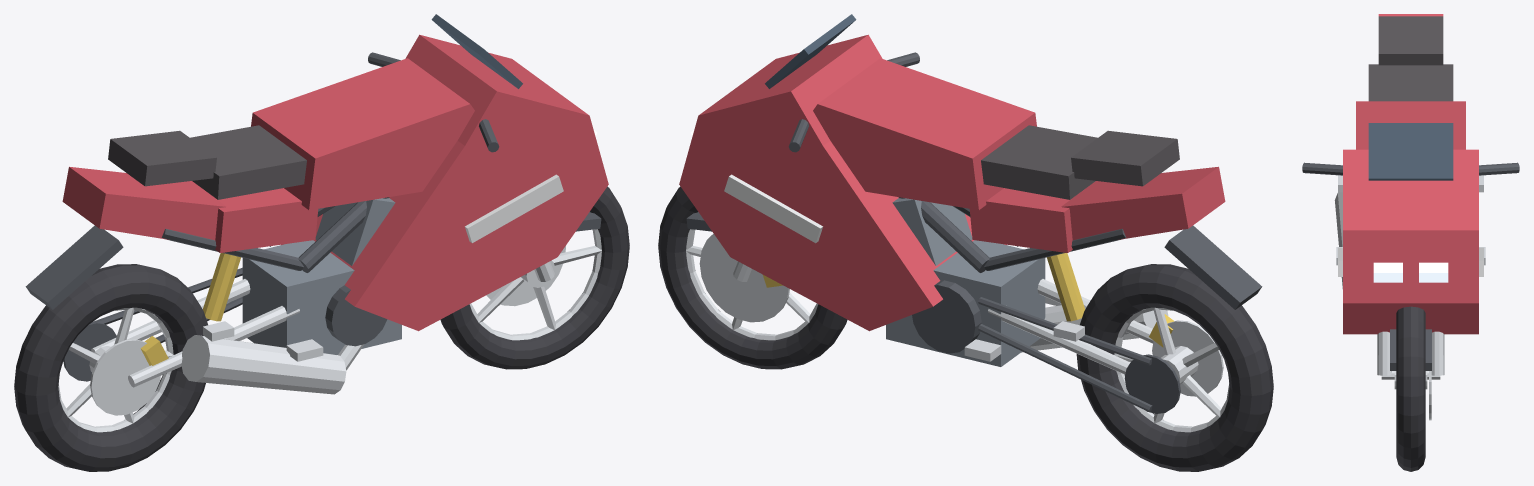
The model's file is honda-cbr-150r-2021-2026.glb.
The picture shows the model from 3 angles, left to right: view 1: azimuth 30°, elevation 25°; view 2: azimuth 150°, elevation 25°; view 3: azimuth 270°, elevation 25°; orthographic projection. The views are drawn at different scales.
Visible parts, largest first — view 1: Bodi_Depan, Bodi_Utama, Roda_Ban, Jok_Motor, Mesin_Blok, Knalpot, Velg_Roda, Piringan_Rem, Spakbor, Rangka, Swing_Arm, Cover_Mesin (+6 smaller); view 2: Bodi_Depan, Bodi_Utama, Roda_Ban, Jok_Motor, Mesin_Blok, Piringan_Rem, Velg_Roda, Rantai, Spakbor, Cover_Mesin, Rangka, Swing_Arm (+6 smaller); view 3: Bodi_Depan, Jok_Motor, Windshield_Visor, Roda_Ban, Bodi_Utama, Suspensi_Depan, Lampu_Depan, Master_Rem_Stang, Spakbor, Knalpot, Aksen_Bodi, Footstep.
Part boxes in pixels (x1=…): Bodi_Depan: x1=281, y1=34, x2=608, y2=331; Bodi_Utama: x1=62, y1=58, x2=474, y2=252; Roda_Ban: x1=14, y1=186, x2=629, y2=471; Jok_Motor: x1=108, y1=125, x2=306, y2=199; Mesin_Blok: x1=242, y1=198, x2=401, y2=354; Knalpot: x1=181, y1=335, x2=364, y2=394; Velg_Roda: x1=58, y1=229, x2=601, y2=432; Piringan_Rem: x1=90, y1=246, x2=565, y2=415; Spakbor: x1=25, y1=212, x2=601, y2=309; Rangka: x1=161, y1=197, x2=389, y2=272; Swing_Arm: x1=91, y1=279, x2=299, y2=387; Cover_Mesin: x1=325, y1=285, x2=387, y2=346; Bodi_Depan: x1=679, y1=34, x2=1006, y2=331; Bodi_Utama: x1=813, y1=58, x2=1225, y2=252; Roda_Ban: x1=658, y1=186, x2=1273, y2=471; Jok_Motor: x1=981, y1=125, x2=1179, y2=199; Mesin_Blok: x1=886, y1=198, x2=1045, y2=366; Piringan_Rem: x1=699, y1=233, x2=1223, y2=396; Velg_Roda: x1=686, y1=229, x2=1229, y2=432; Rantai: x1=978, y1=297, x2=1180, y2=413; Spakbor: x1=686, y1=212, x2=1262, y2=309; Cover_Mesin: x1=912, y1=280, x2=981, y2=353; Rangka: x1=898, y1=197, x2=1126, y2=272; Swing_Arm: x1=988, y1=279, x2=1153, y2=374; Bodi_Depan: x1=1343, y1=149, x2=1478, y2=334; Jok_Motor: x1=1368, y1=16, x2=1453, y2=101; Windshield_Visor: x1=1368, y1=123, x2=1453, y2=180; Roda_Ban: x1=1396, y1=306, x2=1425, y2=471; Bodi_Utama: x1=1356, y1=14, x2=1465, y2=149; Suspensi_Depan: x1=1377, y1=331, x2=1444, y2=379; Lampu_Depan: x1=1373, y1=262, x2=1448, y2=282; Master_Rem_Stang: x1=1302, y1=162, x2=1519, y2=175; Spakbor: x1=1390, y1=329, x2=1431, y2=370; Knalpot: x1=1334, y1=192, x2=1342, y2=288; Aksen_Bodi: x1=1338, y1=247, x2=1483, y2=276; Footstep: x1=1336, y1=175, x2=1485, y2=265.
Size of the model in its own units: 1.91 by 1.05 by 0.6701.
